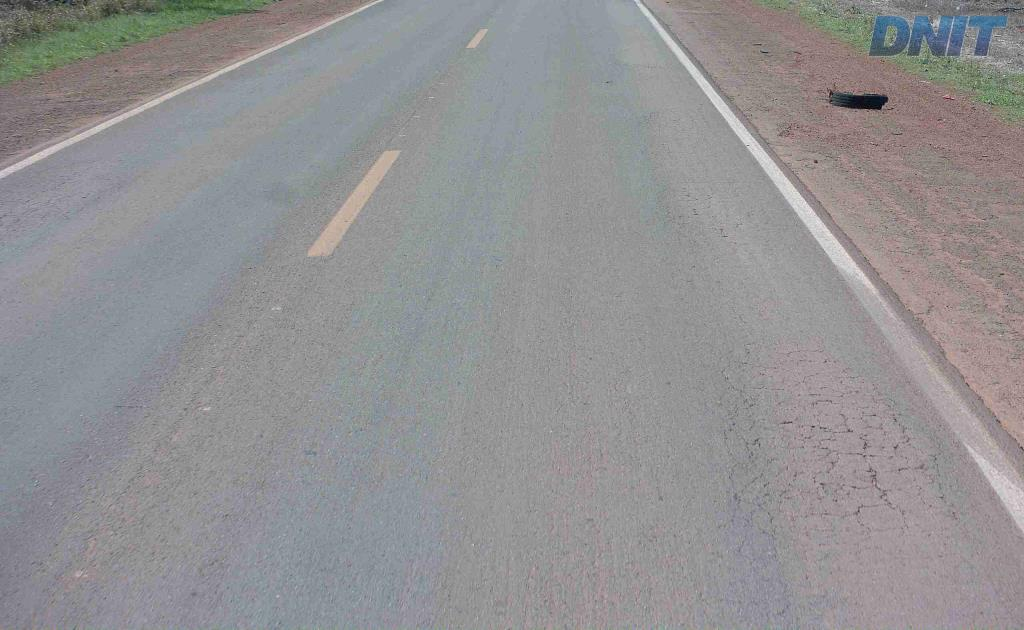crack: (723, 421, 761, 483)
